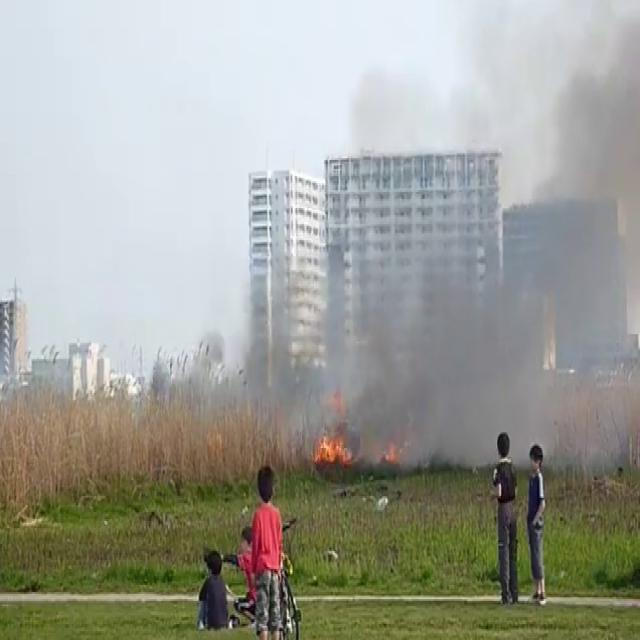Fire: (311, 420, 355, 472)
Smoke: (351, 3, 640, 470)
